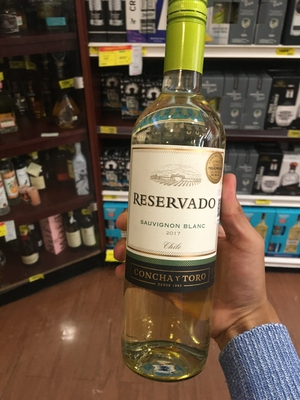reservado sauvignon blanc: (123, 3, 222, 379)
